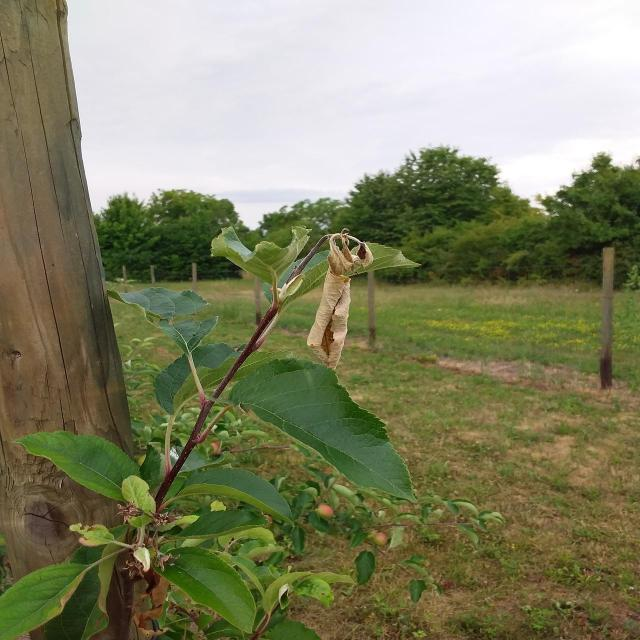-FireBlight-: (312, 232, 364, 363)
